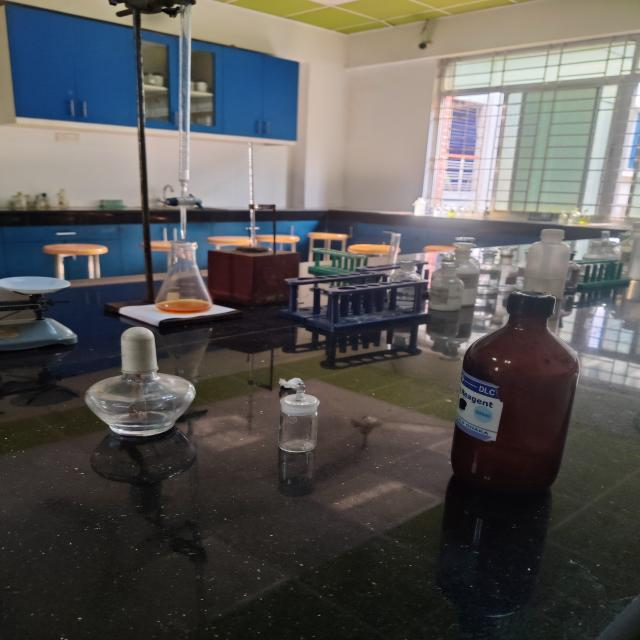Nessler_Reagent_Bottle: (429, 286, 601, 504)
Spirit_Lamp: (82, 321, 210, 447)
Weighing_Bottle: (268, 370, 334, 468)
